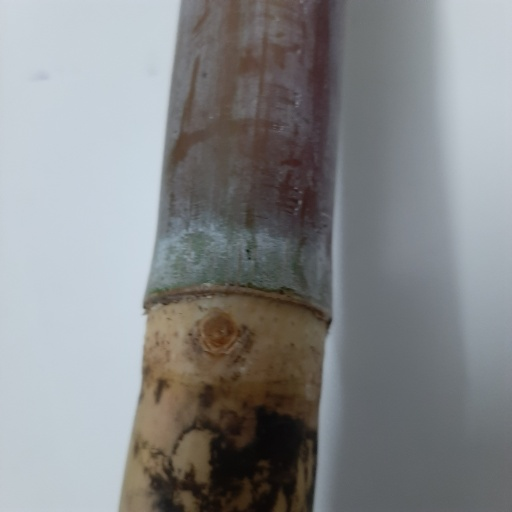Bud: (201, 315, 237, 355)
